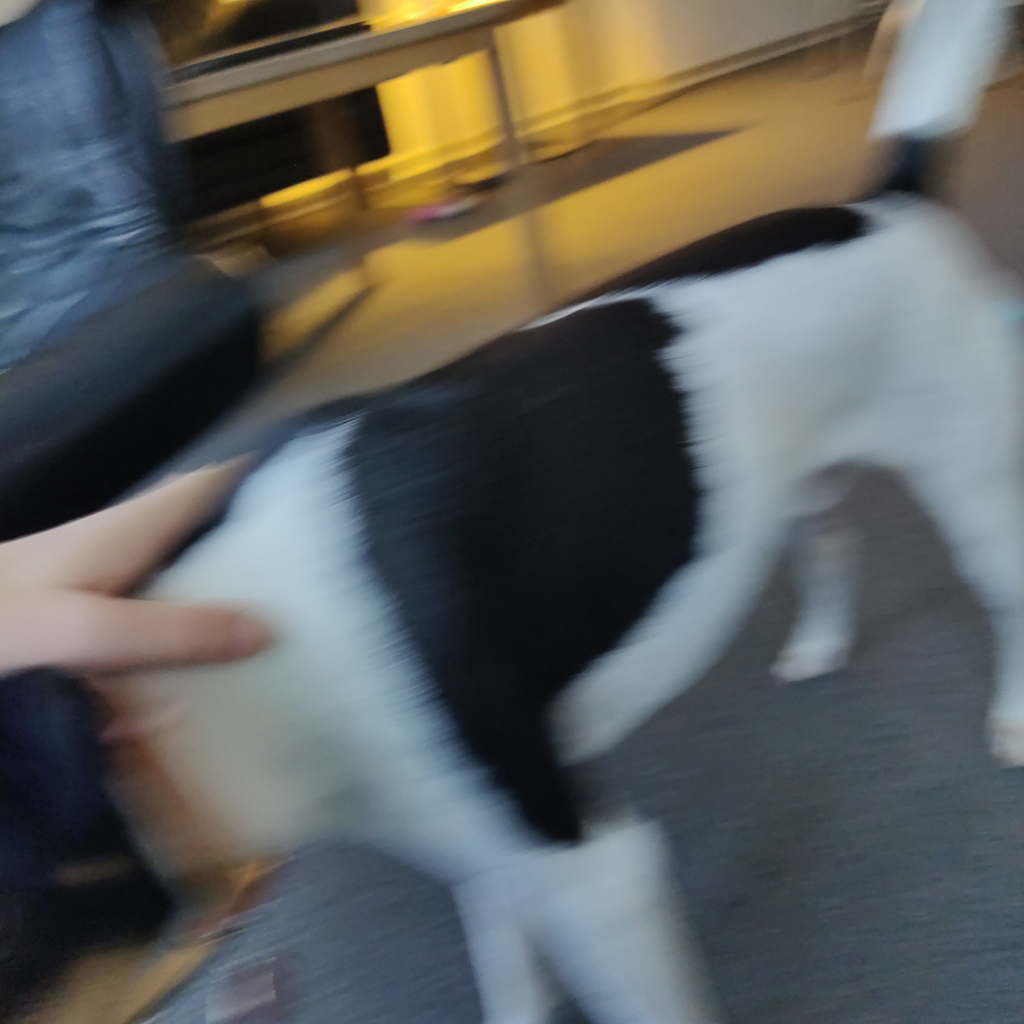Dog: (0, 0, 1024, 1024)
Humanoid: (0, 403, 323, 757)
